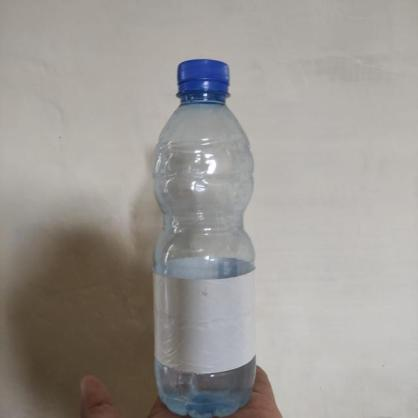bottle: (152, 59, 254, 418)
cap: (173, 59, 232, 99)
label: (152, 275, 253, 370)
